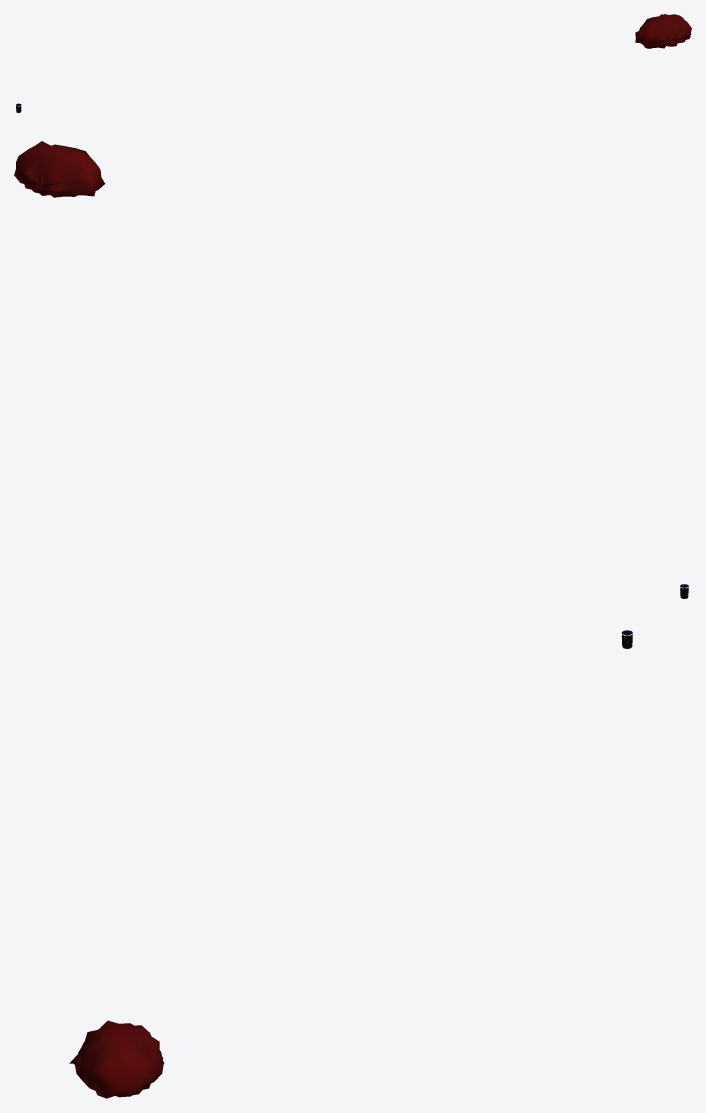
The model's file is zoa.glb.
3 renders of one model, top to bottom at view 1: azimuth 30°, elevation 25°; view 2: azimuth 150°, elevation 25°; view 3: azimuth 270°, elevation 25°, orthographic. The views are drawn at different scales.
Parts seen in each view (by area): view 1: Rubble; view 2: Rubble; view 3: Rubble.
Boxes of the visible parts, box(x1,y1,x2,y2) form: Rubble: box(635, 14, 691, 48); Rubble: box(14, 141, 104, 197); Rubble: box(69, 1020, 164, 1098).
Bounding box in the file's own units: 69.74 × 7.54 × 31.27.
Materials: 4 (4 with a texture image).
